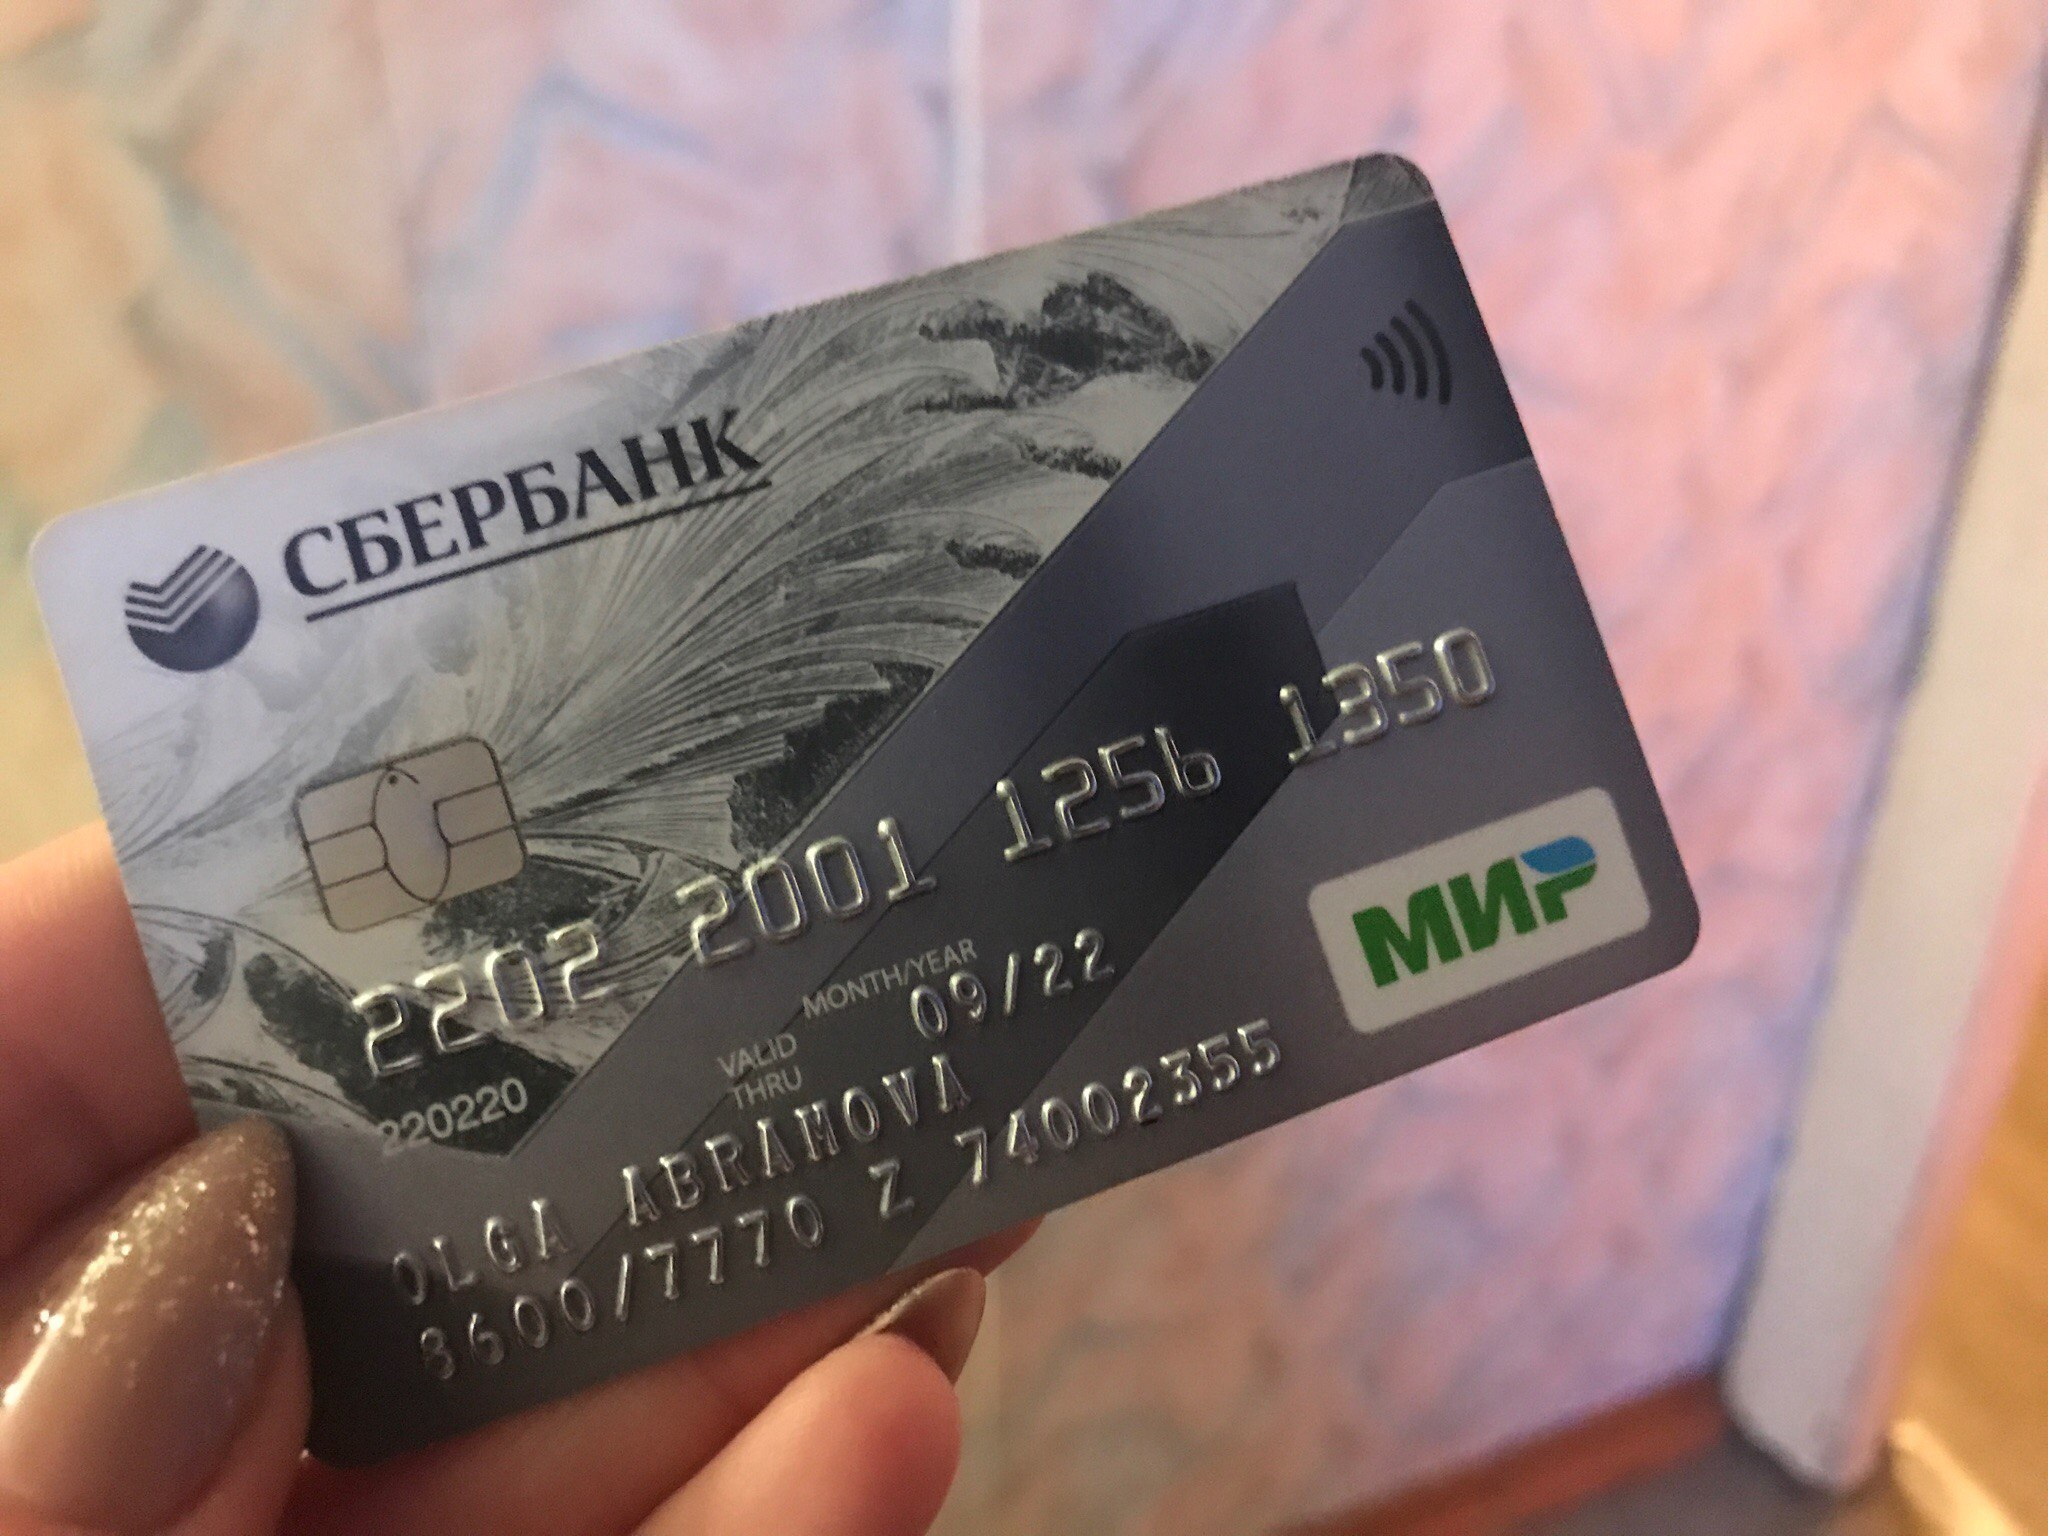card: (32, 145, 1709, 1438)
